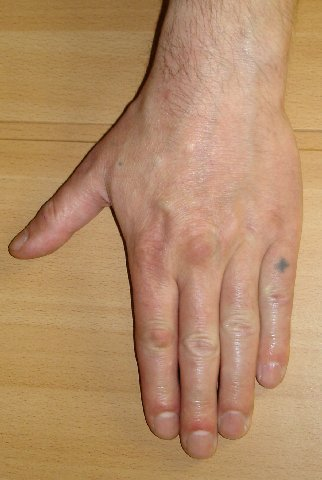tatu9_krest: (272, 250, 294, 276)
